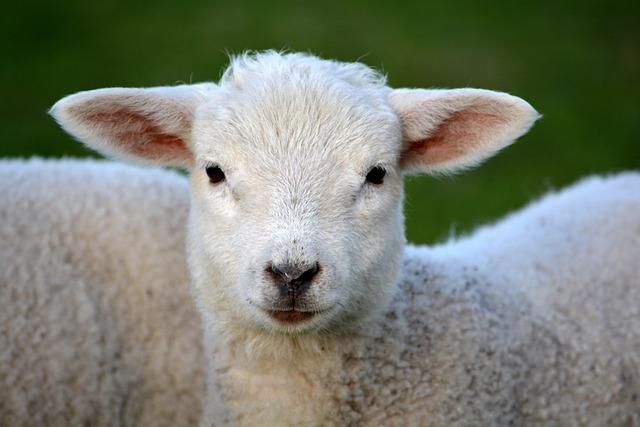Non_Gorille: (8, 0, 640, 427)
